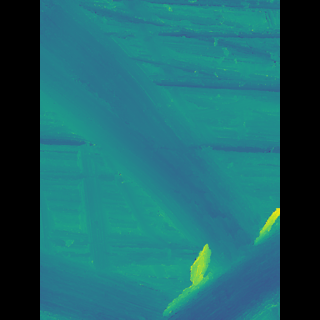Loch: (71, 0, 249, 320)
